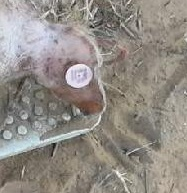text: (59, 54, 100, 96)
